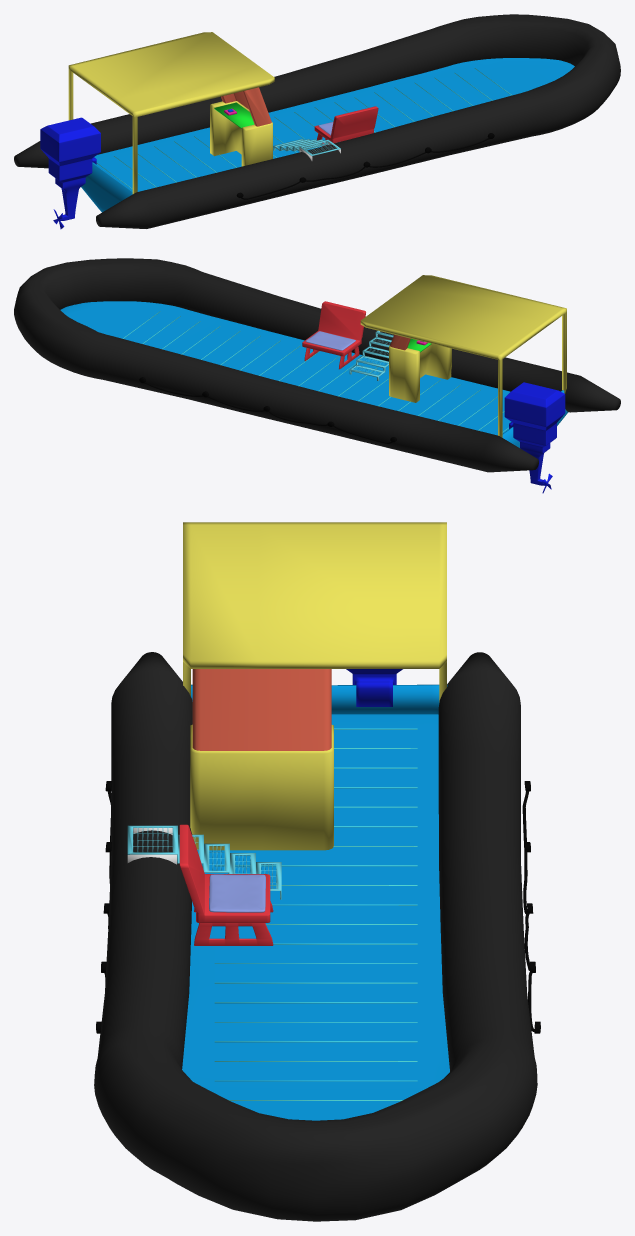
Rendered from rib.fbx.
The picture shows the model from 3 angles, top to bottom: view 1: azimuth 30°, elevation 25°; view 2: azimuth 150°, elevation 25°; view 3: azimuth 270°, elevation 25°; orthographic projection. The views are drawn at different scales.
Visible parts, largest first — view 1: Sides, Floor, Cockpit, Engine1, Seats, Window, Floor.001, Cube, Rope, Table; view 2: Sides, Floor, Cockpit, Engine1, Seats, Floor.001, Cube, Rope, Seats.001; view 3: Sides, Floor, Cockpit, Window, Floor.001, Seats, Cube, Seats.001, Rope, Engine1.
Part boxes in pixels (bbox=[...]): Sides: bbox=[14, 14, 620, 228]; Floor: bbox=[81, 58, 574, 212]; Cockpit: bbox=[68, 32, 274, 193]; Engine1: bbox=[40, 117, 100, 229]; Seats: bbox=[314, 106, 378, 146]; Window: bbox=[221, 87, 271, 126]; Floor.001: bbox=[96, 68, 512, 189]; Cube: bbox=[273, 139, 340, 155]; Rope: bbox=[236, 133, 494, 199]; Table: bbox=[214, 102, 254, 128]; Sides: bbox=[14, 258, 620, 472]; Floor: bbox=[60, 301, 568, 447]; Cockpit: bbox=[360, 275, 566, 437]; Engine1: bbox=[504, 382, 565, 493]; Seats: bbox=[302, 301, 365, 369]; Floor.001: bbox=[123, 311, 508, 432]; Cube: bbox=[349, 330, 393, 381]; Rope: bbox=[139, 377, 396, 443]; Seats.001: bbox=[305, 331, 355, 350]; Sides: bbox=[94, 652, 537, 1221]; Floor: bbox=[182, 684, 449, 1120]; Cockpit: bbox=[183, 522, 446, 850]; Window: bbox=[192, 669, 331, 750]; Floor.001: bbox=[214, 728, 417, 1100]; Seats: bbox=[179, 824, 273, 945]; Cube: bbox=[127, 825, 281, 899]; Seats.001: bbox=[209, 874, 265, 912]; Rope: bbox=[96, 781, 540, 1033]; Engine1: bbox=[346, 669, 402, 706].
Bounding box in the file's own units: 923 × 227 × 324.
